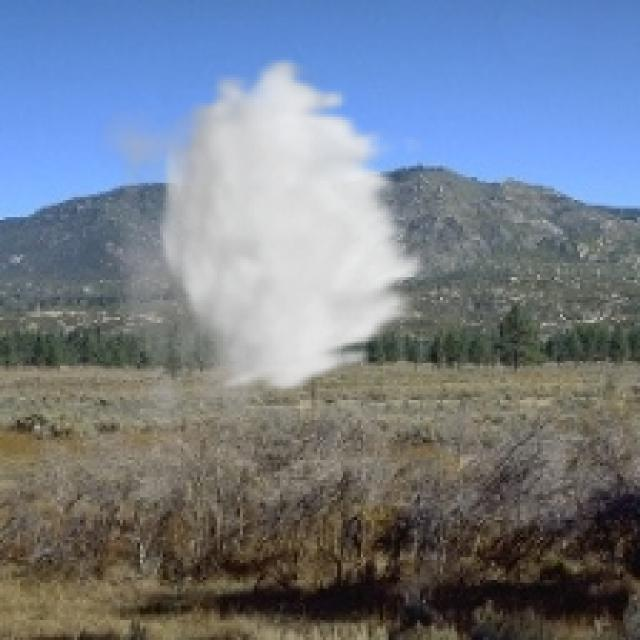smoke: (92, 54, 434, 466)
